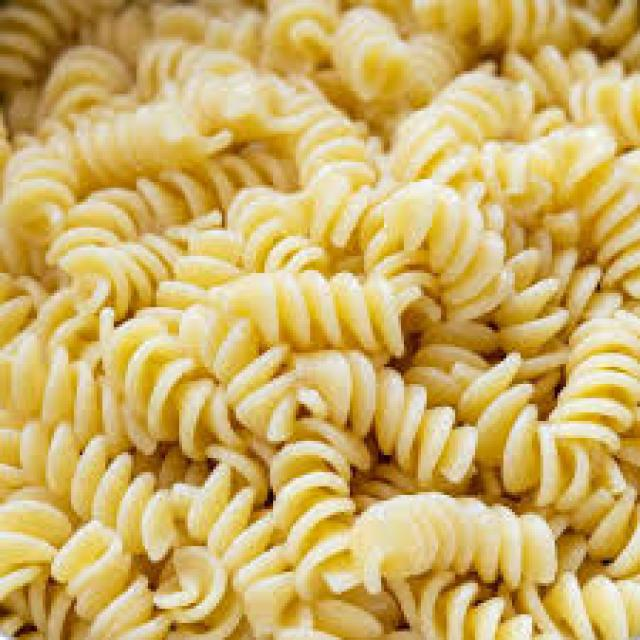pasta: (8, 9, 635, 632)
